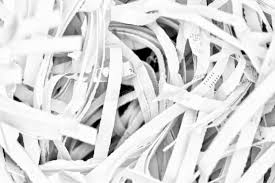paper: (127, 78, 275, 181), (128, 1, 274, 105), (1, 64, 96, 182), (74, 45, 138, 178)
